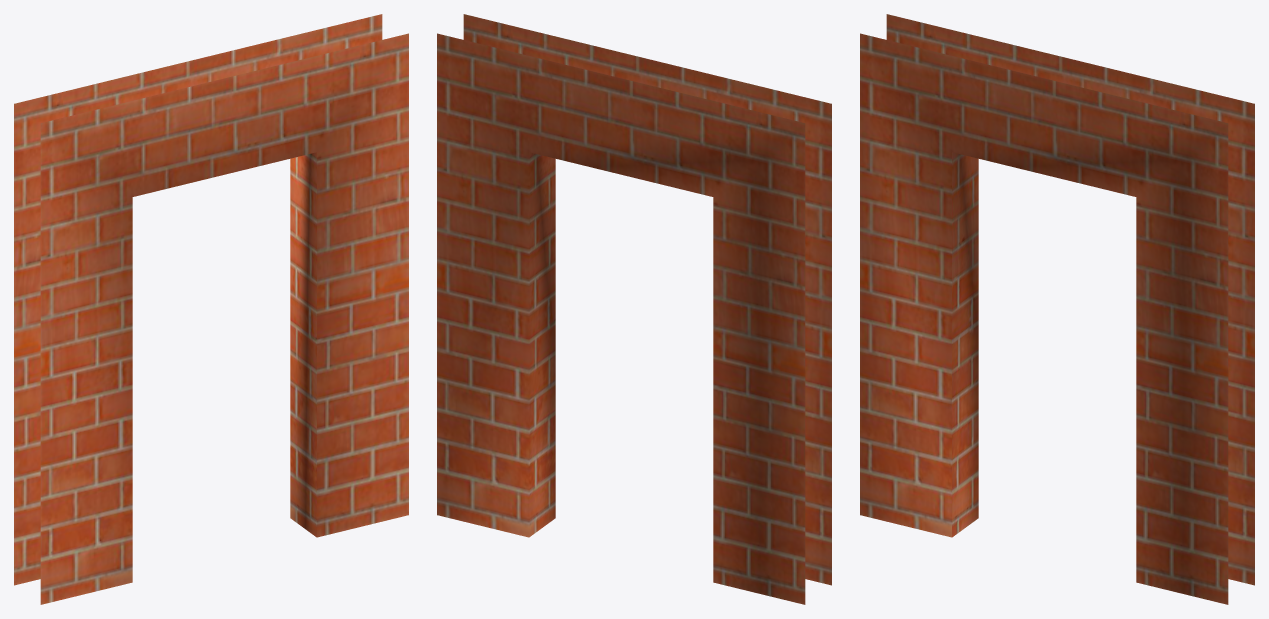
The model's file is wall_door.fbx.
3 views of the same model, side by side, from view 1: azimuth 30°, elevation 25°; view 2: azimuth 150°, elevation 25°; view 3: azimuth 330°, elevation 25° (orthographic).
Parts seen in each view (by area): view 1: Cube_002; view 2: Cube_002; view 3: Cube_002.
Part boxes in pixels (left/top/right/bottom): Cube_002: left=14, top=14, right=408, bottom=604; Cube_002: left=437, top=14, right=831, bottom=604; Cube_002: left=860, top=14, right=1254, bottom=604.
Bounding box in the file's own units: 1.6 × 2 × 0.2.
